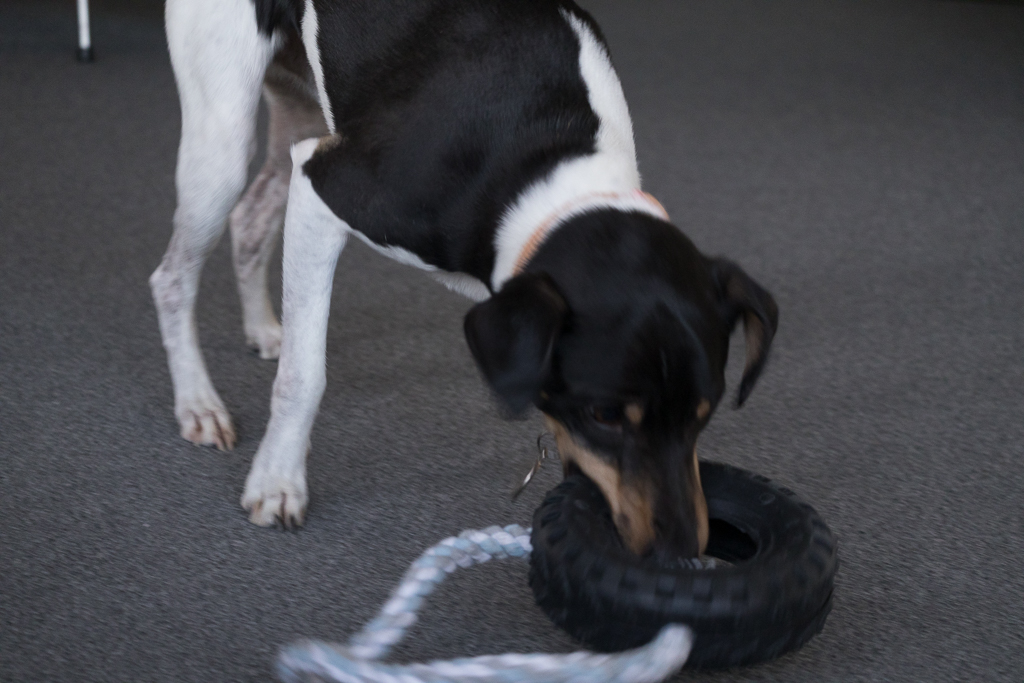Dog: (143, 0, 789, 572)
